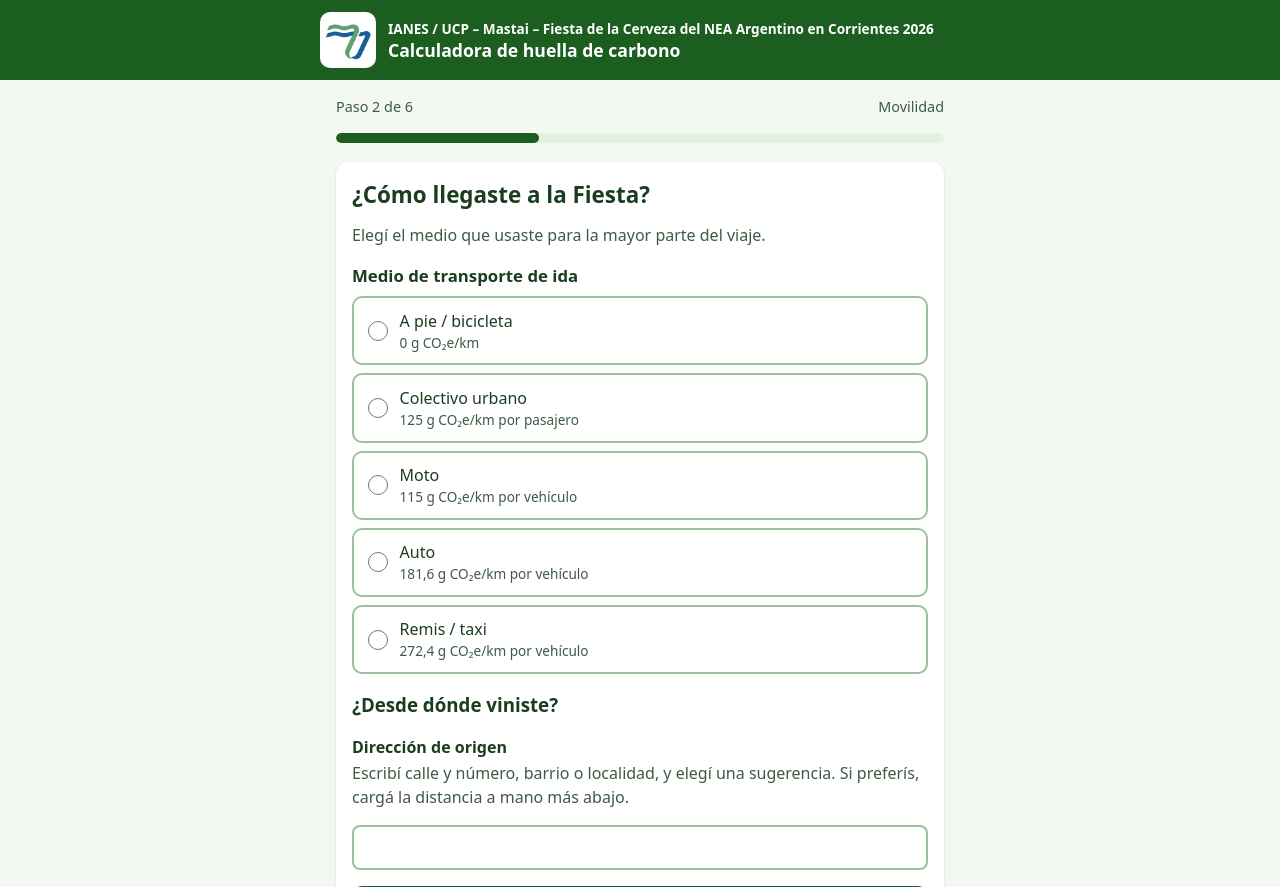
Scenario: buscador de direcciones y ruta › si la búsqueda falla, avisa que se puede cargar a mano
In the dropdown: [640, 848] box [352,825,928,870], type "Calle inexistente"
(page scrolled)
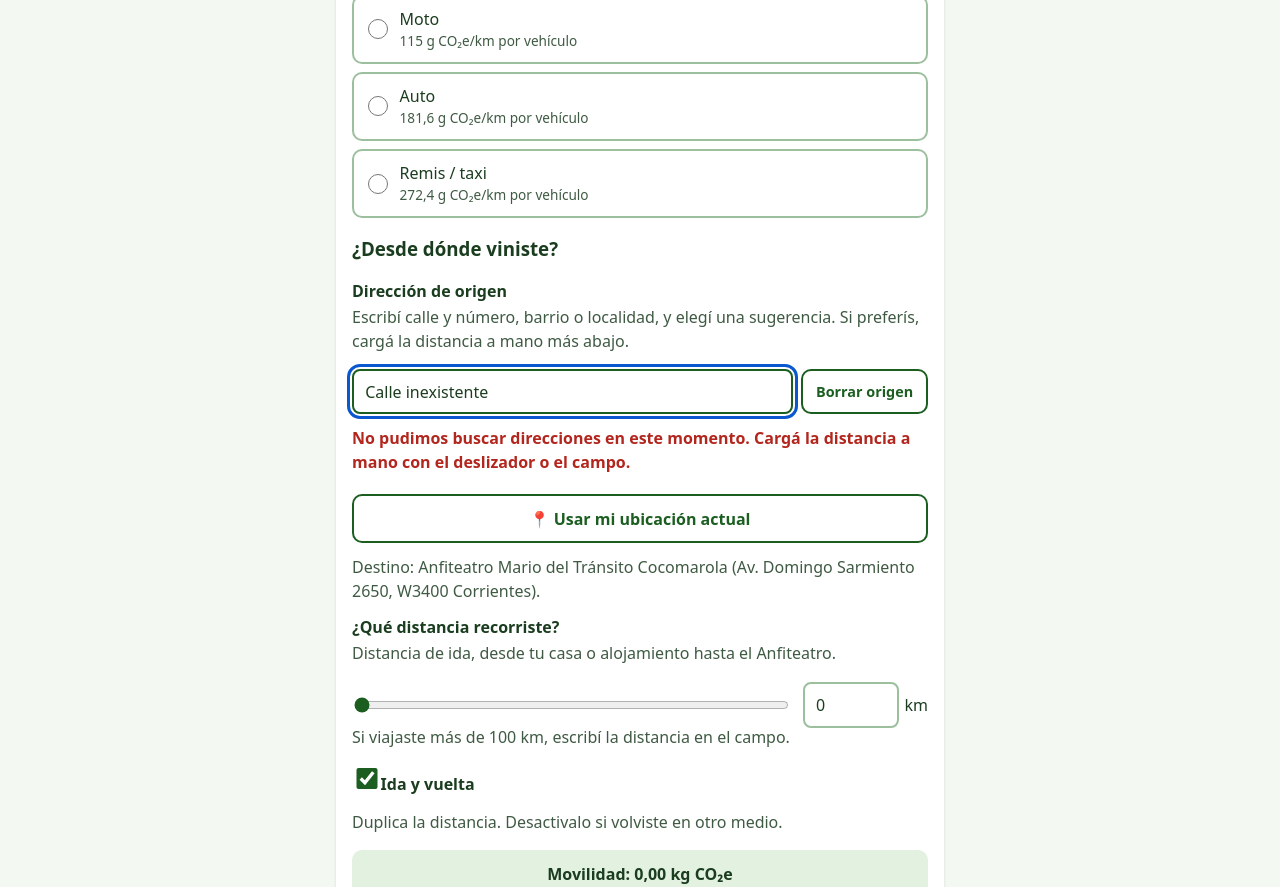
Now the text "No pudimos buscar direcciones en este momento. Cargá la distancia a mano con el deslizador o el campo." is shown, box [352,428,910,474]
